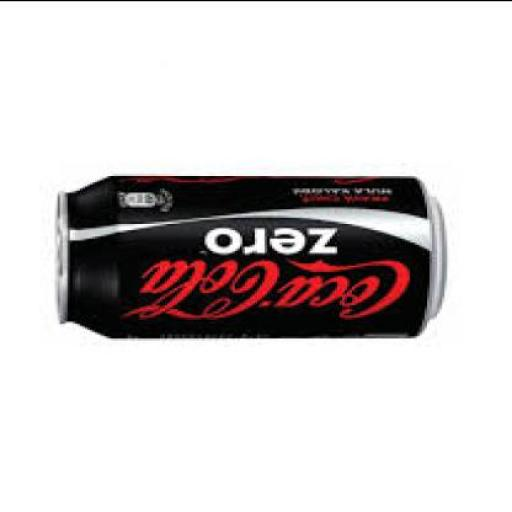metal: (55, 174, 437, 340)
